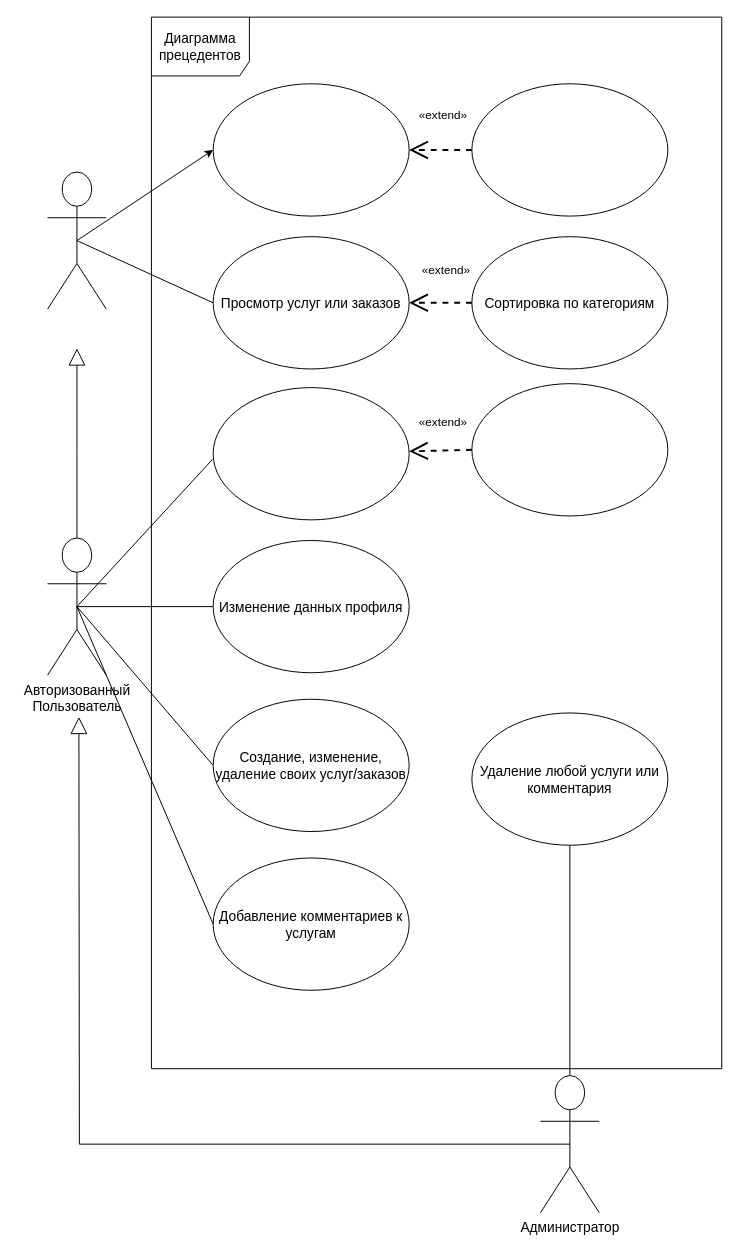
This 739x1253 diagram has some shape labels left out. Here are the shapes that lost their labels. From the top down, the centre of each, then its label:
[310,149]: Авторизация
[569,149]: Регистрация
[76,240]: Неавторизованный Пользователь
[310,453]: Создание и использование чатов
[569,449]: Взаимодействие между заказчиком и исполнителем
